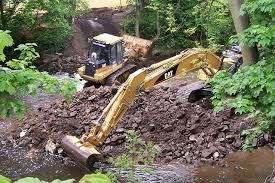bulldozer: (78, 35, 154, 87)
excavator: (61, 46, 246, 171)
